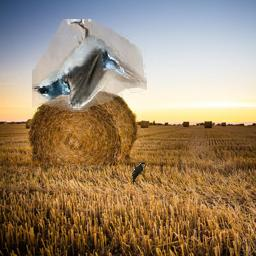Cuckoo: (131, 163, 147, 184)
Swallow: (33, 20, 148, 113)
